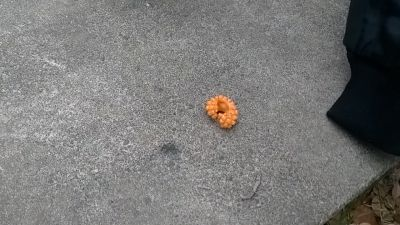eggs: (204, 93, 240, 132)
